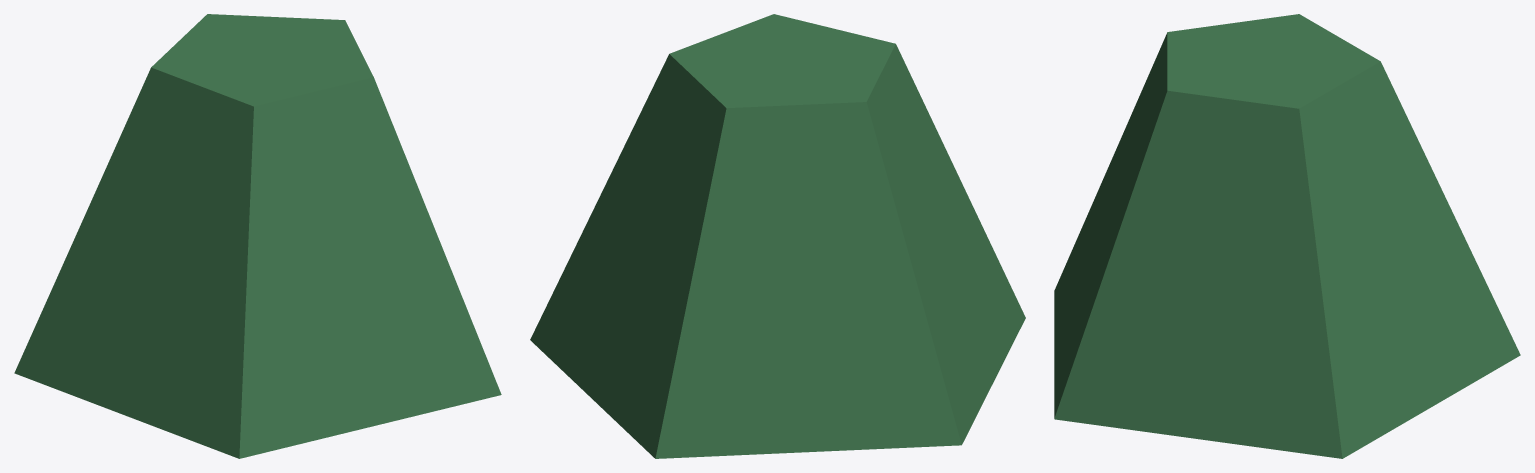
File: prop_bush.glb
3 views of the same model, side by side, from view 1: azimuth 30°, elevation 25°; view 2: azimuth 150°, elevation 25°; view 3: azimuth 270°, elevation 25° (orthographic).
Visible parts, largest first — view 1: prop_bush; view 2: prop_bush; view 3: prop_bush.
Boxes of the visible parts, x1,y1,x2,y2 form: prop_bush: (14,14,501,458); prop_bush: (530,14,1025,458); prop_bush: (1054,14,1520,458).
Bounding box in the file's own units: 0.6657 × 0.44 × 0.6332.
Materials: 1 (1 with a texture image).
